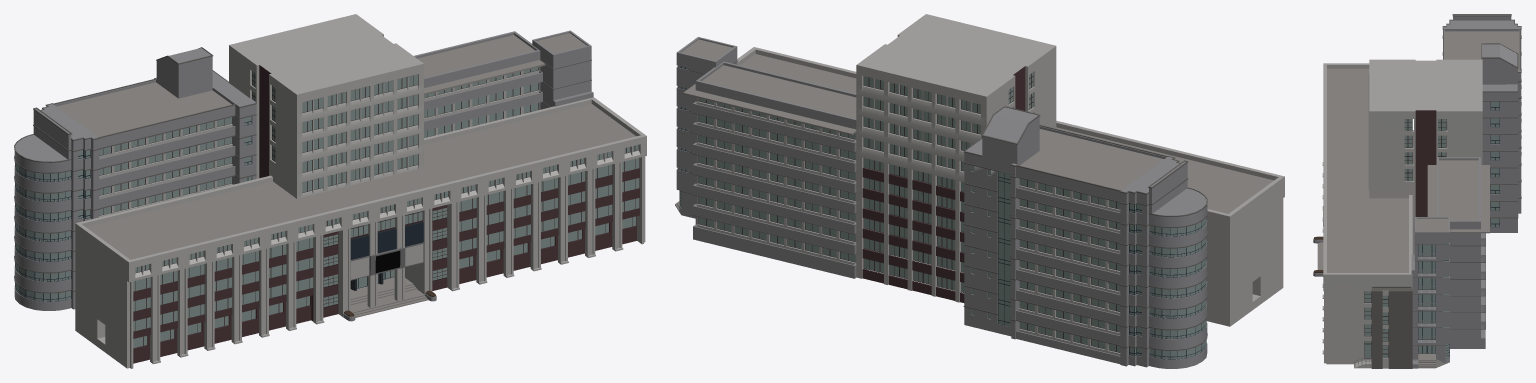
File: 08_순헌관.FBX
3 views of the same model, side by side, from view 1: azimuth 30°, elevation 25°; view 2: azimuth 150°, elevation 25°; view 3: azimuth 270°, elevation 25° (orthographic). The views are drawn at different scales.
Parts seen in each view (by area): view 1: 08_순헌관; view 2: 08_순헌관; view 3: 08_순헌관.
Part boxes in pixels (x1,y1,x2,y2): 08_순헌관: (14,14,646,368); 08_순헌관: (675,14,1284,368); 08_순헌관: (1313,14,1521,368).
Size of the model in its own units: 436 by 159 by 173.
